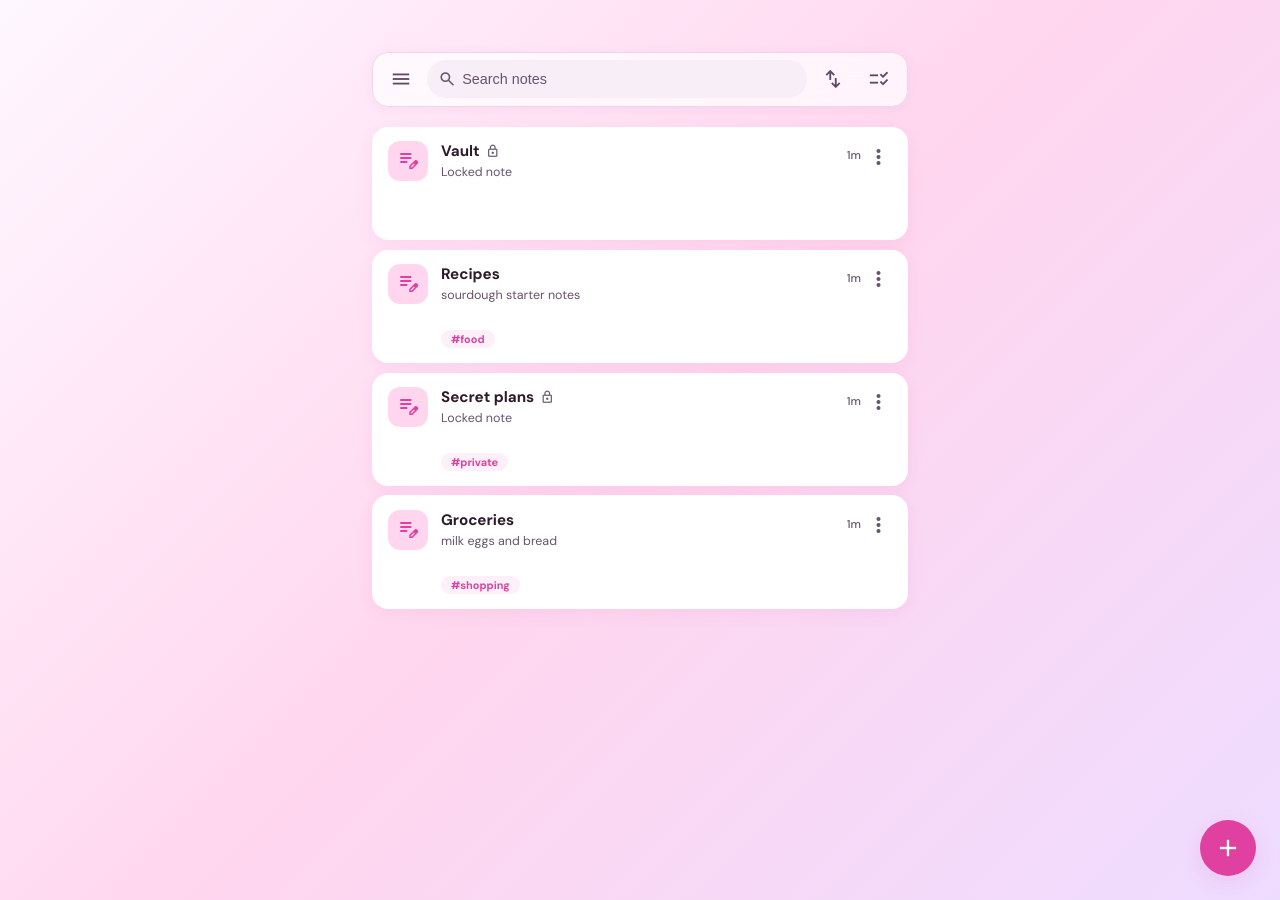
Test case: batch unprotect › still shows the error on the modal instead of closing it
The width and height of the screenshot is (1280, 900).
Click the button with class "select-btn": click(879, 79) [859, 59, 899, 99]
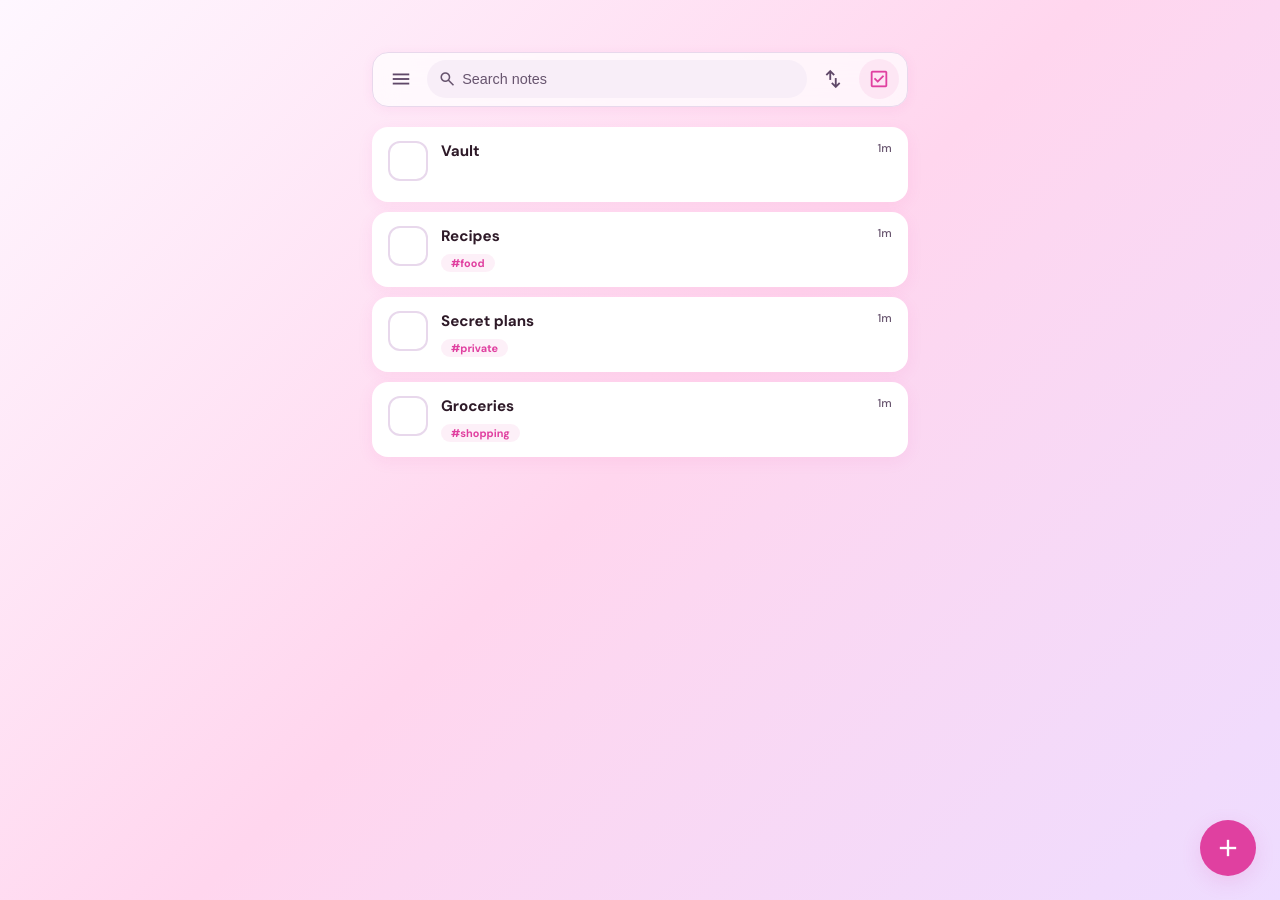
Click the button with class "note-card" showing "Vault 1m": click(408, 161) [372, 127, 908, 202]
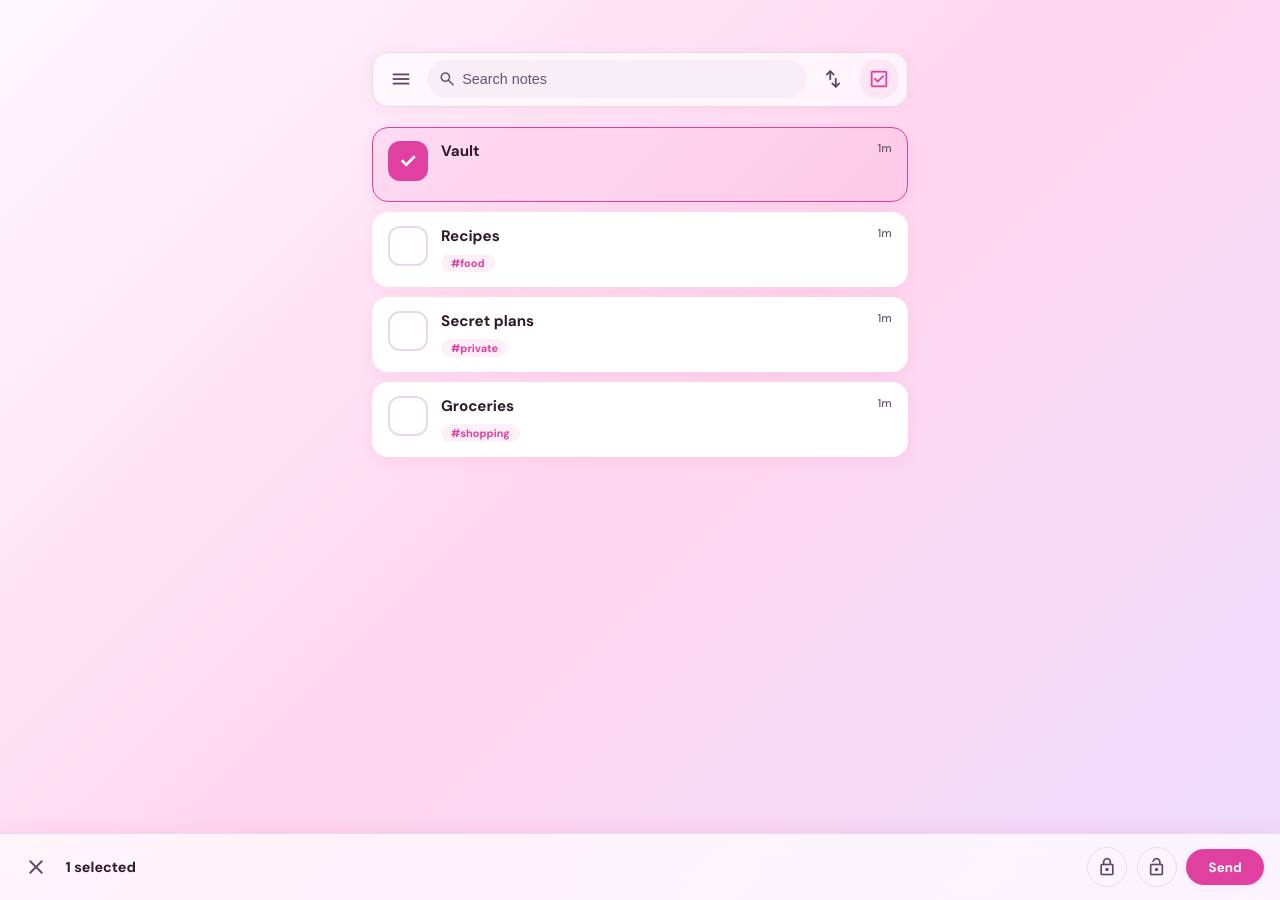
Click the button with class "note-card" showing "Recipes #food 1m": click(408, 246) [372, 212, 908, 287]
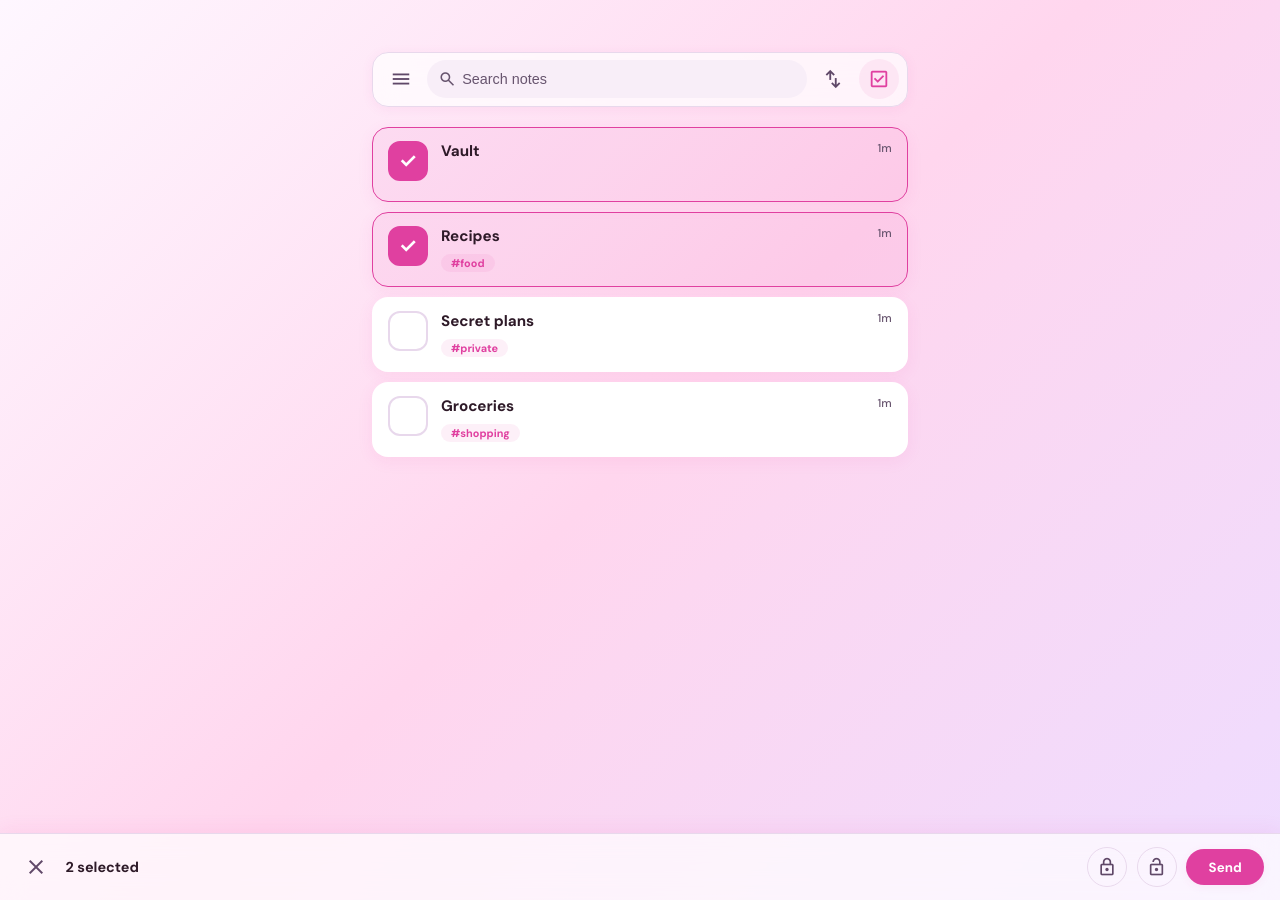
Click the button named "Remove protection": click(1157, 867) [1137, 847, 1177, 887]
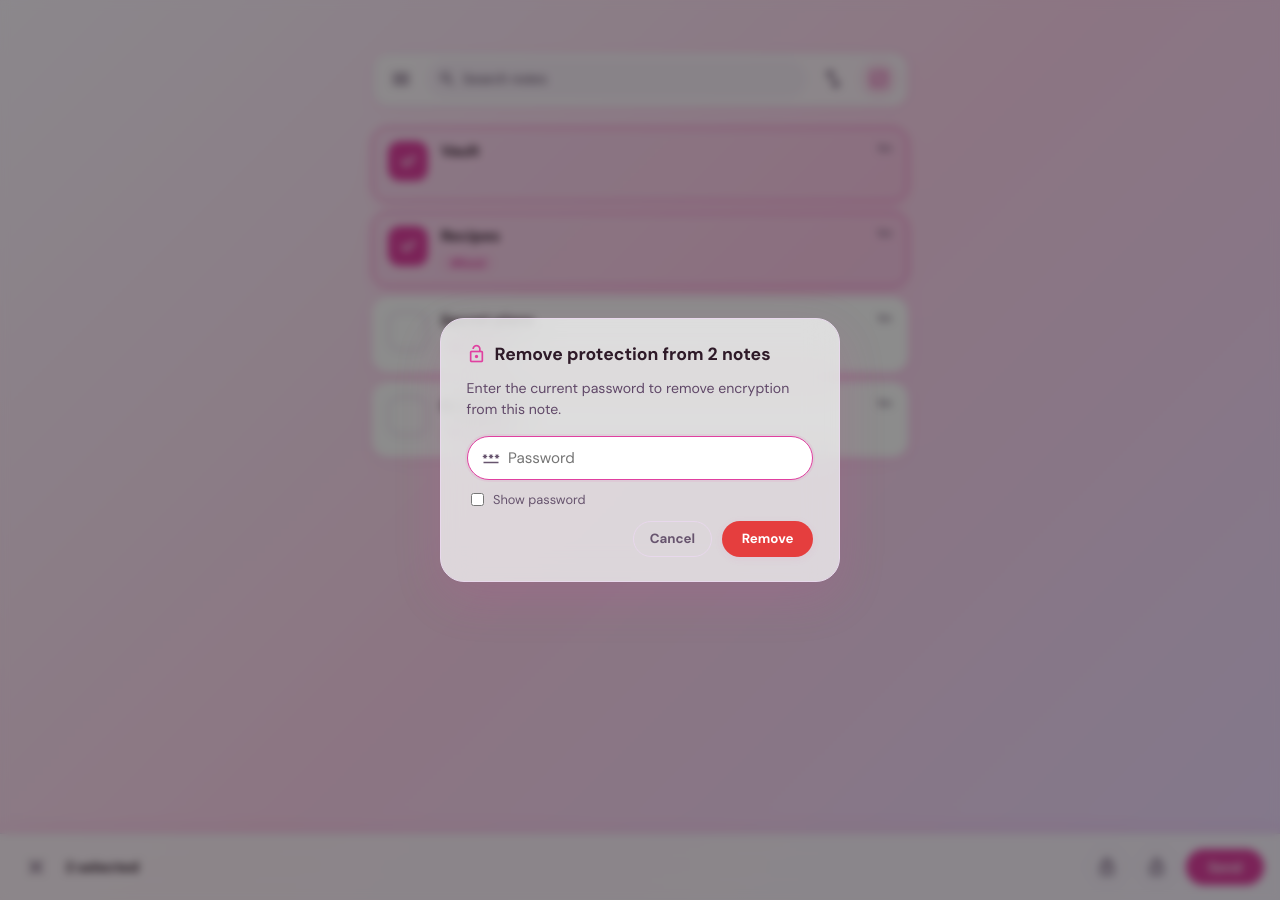
In the password field with placeholder "Password": (653, 458) [508, 437, 798, 479], type "hunter2"
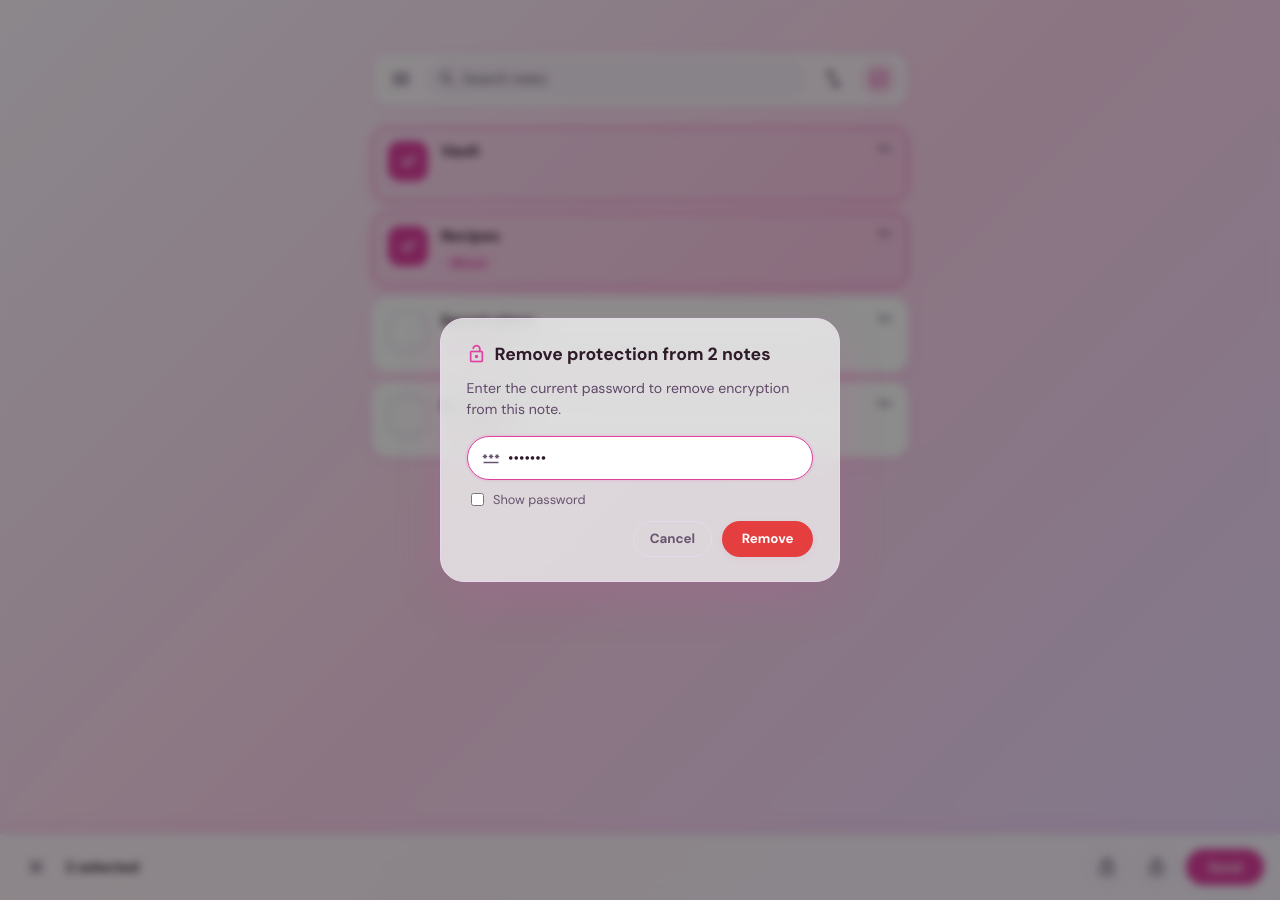
Submit the form, box [467, 436, 813, 557]
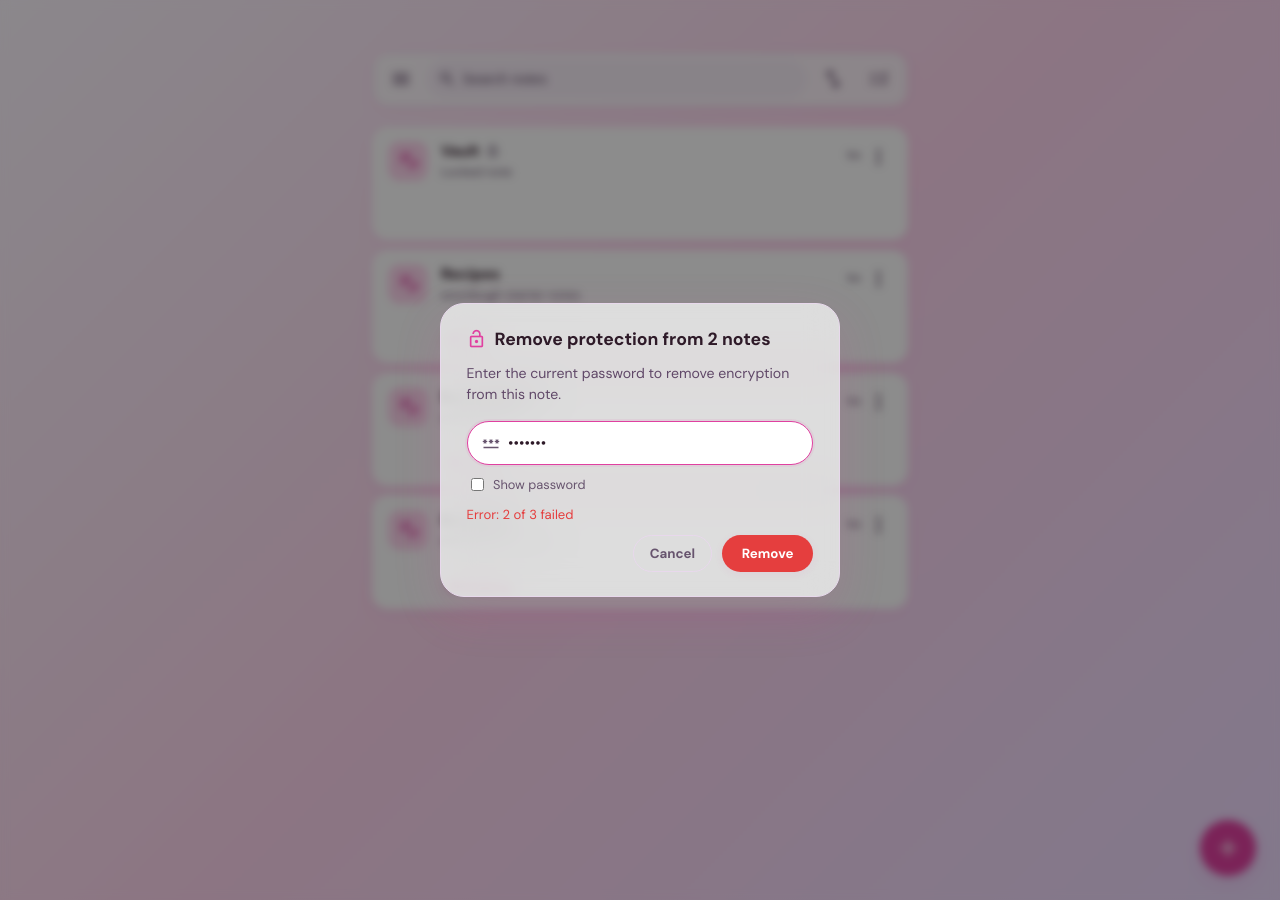
expect the dialog with class "modal" is shown: met, box [440, 303, 840, 597]
expect the message with class "error" shows "2 of 3 failed": met, box [467, 506, 574, 523]
